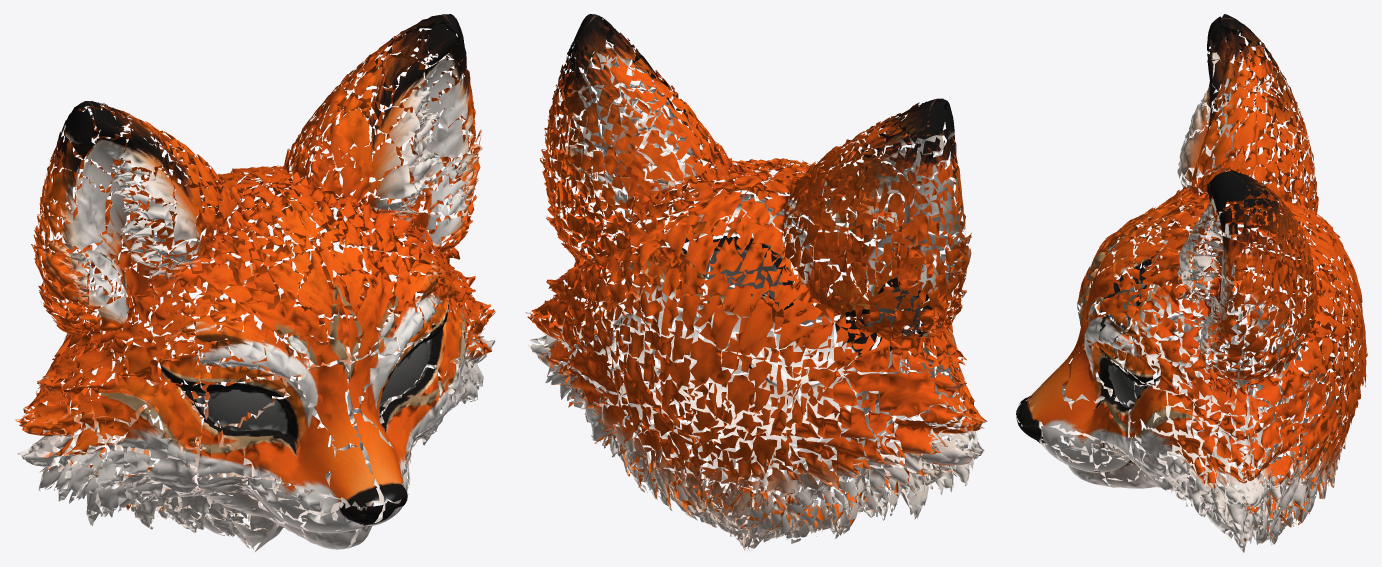
Rendered from FoxMask_Mobile.obj.
3 views of the same model, side by side, from view 1: azimuth 30°, elevation 25°; view 2: azimuth 150°, elevation 25°; view 3: azimuth 270°, elevation 25° (orthographic). The views are drawn at different scales.
Visible parts, largest first — view 1: CrushX_FoxMask_Mobile; view 2: CrushX_FoxMask_Mobile; view 3: CrushX_FoxMask_Mobile.
Boxes of the visible parts, x1,y1,x2,y2 form: CrushX_FoxMask_Mobile: [15, 14, 495, 551]; CrushX_FoxMask_Mobile: [525, 14, 987, 552]; CrushX_FoxMask_Mobile: [1016, 14, 1367, 552].
Bounding box in the file's own units: 1.87 × 1.9 × 1.35.
1 material, 1 textured.
